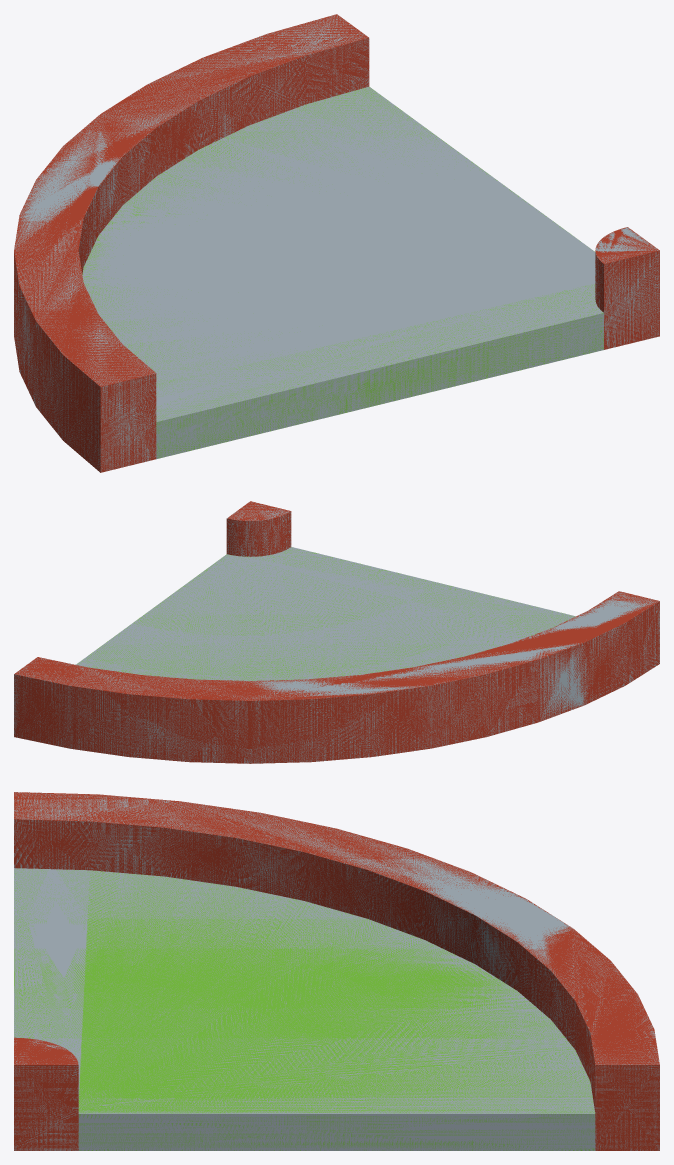
Rendered from Round_corner_1_01.obj.
The picture shows the model from 3 angles, top to bottom: view 1: azimuth 30°, elevation 25°; view 2: azimuth 150°, elevation 25°; view 3: azimuth 270°, elevation 25°; orthographic projection. The views are drawn at different scales.
Parts seen in each view (by area): view 1: Mesh1 Round_corner_1 Model; view 2: Mesh1 Round_corner_1 Model; view 3: Mesh1 Round_corner_1 Model.
Boxes of the visible parts, bbox=[...] form: Mesh1 Round_corner_1 Model: bbox=[14, 14, 659, 472]; Mesh1 Round_corner_1 Model: bbox=[14, 501, 659, 763]; Mesh1 Round_corner_1 Model: bbox=[14, 792, 659, 1150].
Bounding box in the file's own units: 3 × 0.44 × 3.
